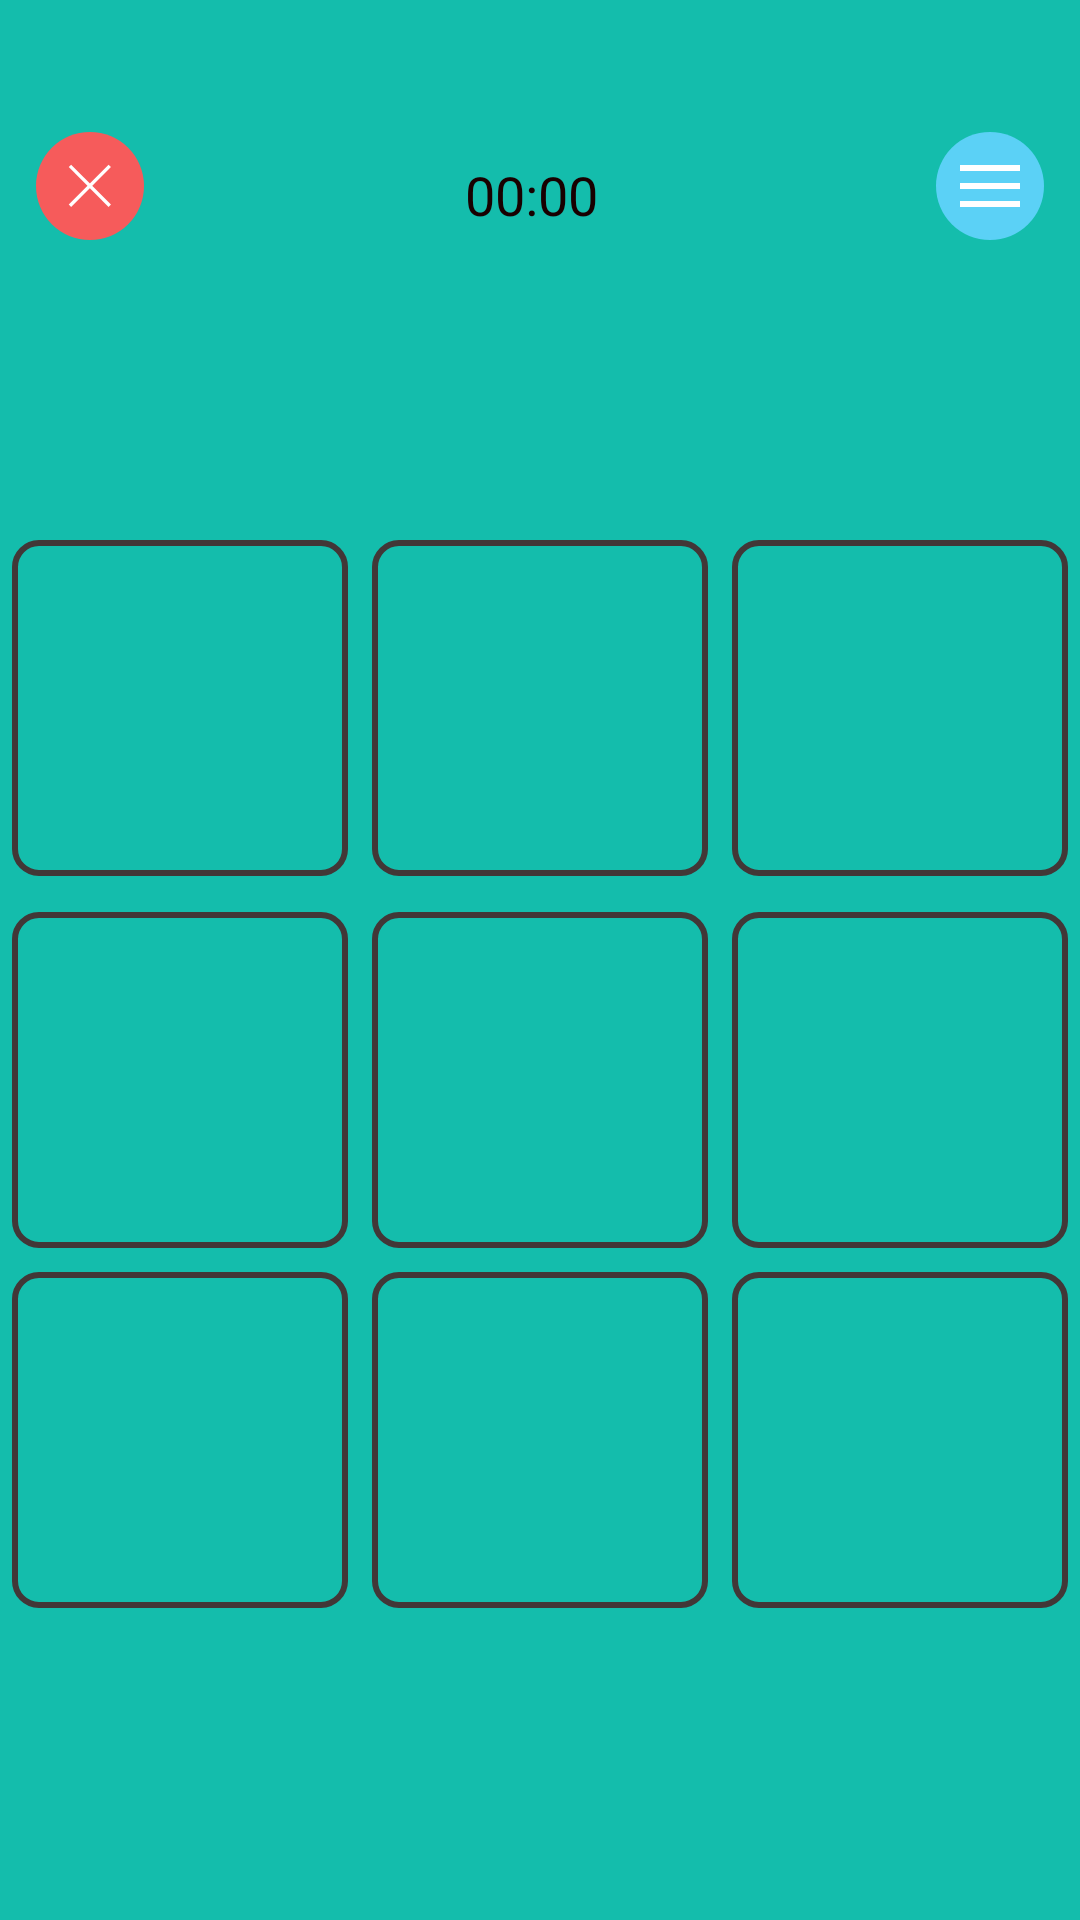

Locate icon controls on the screen. Image size 1080 x 1920, boxes as (x1, y1, x2, y2).
cross: (36, 132, 144, 240)
menu: (936, 132, 1044, 240)
